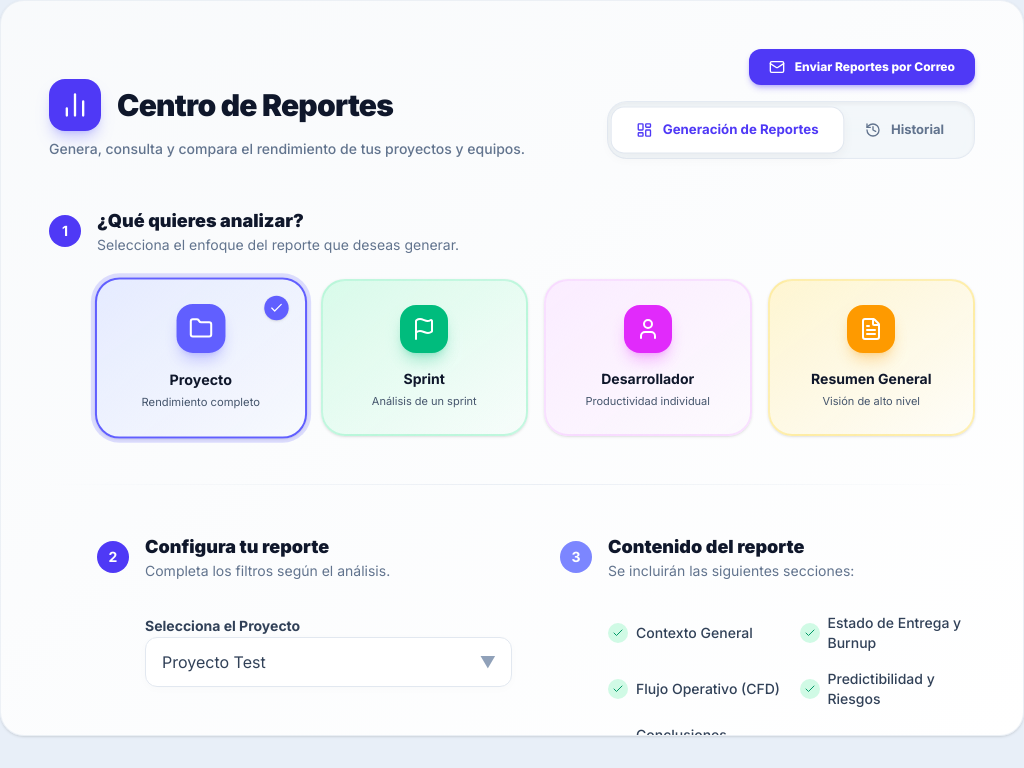
CentroReportesView › can switch tabs to Historial and back to Generación
Click the button "Historial": (904, 130) [841,108,968,152]
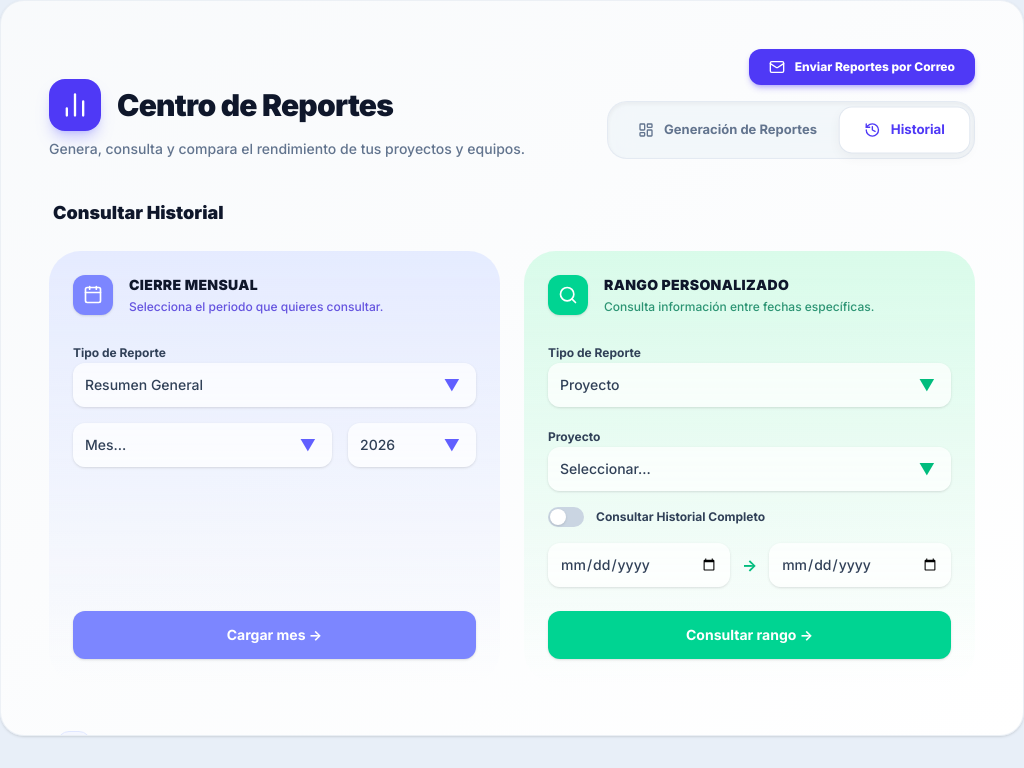
Check: the heading "Consultar Historial" is shown, box [53,202,224,222]
Click the button "Generación de Reportes": (728, 130) [614,108,841,152]
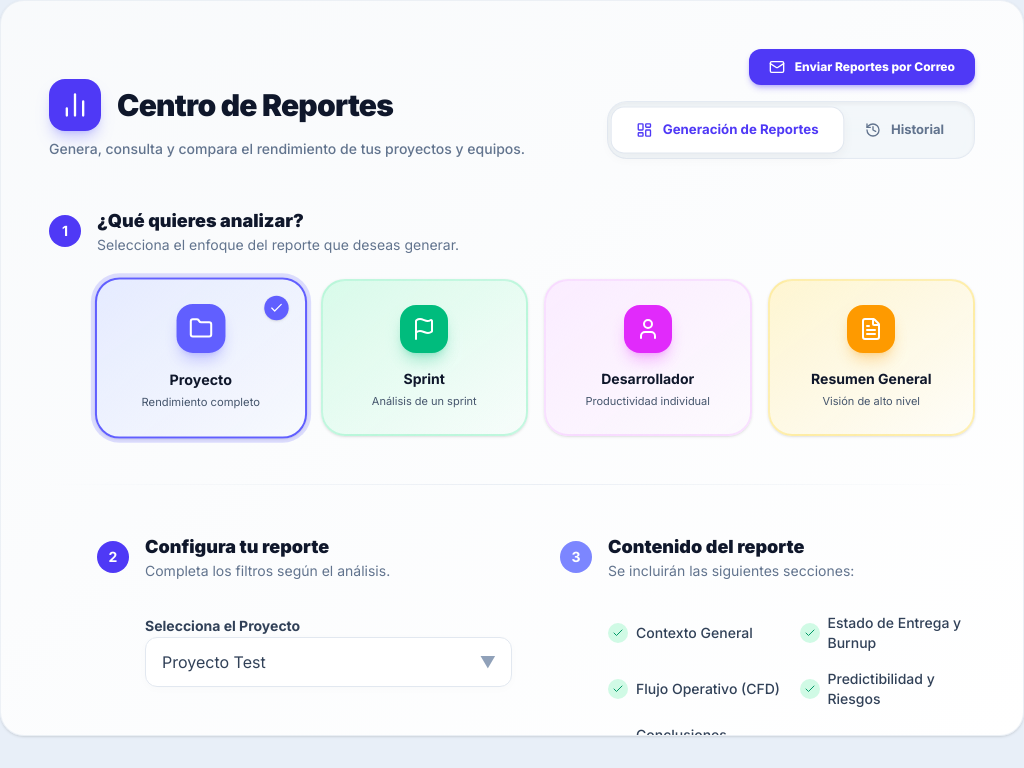
Check: the heading "¿Qué quieres analizar?" is shown, box [97,210,304,230]
